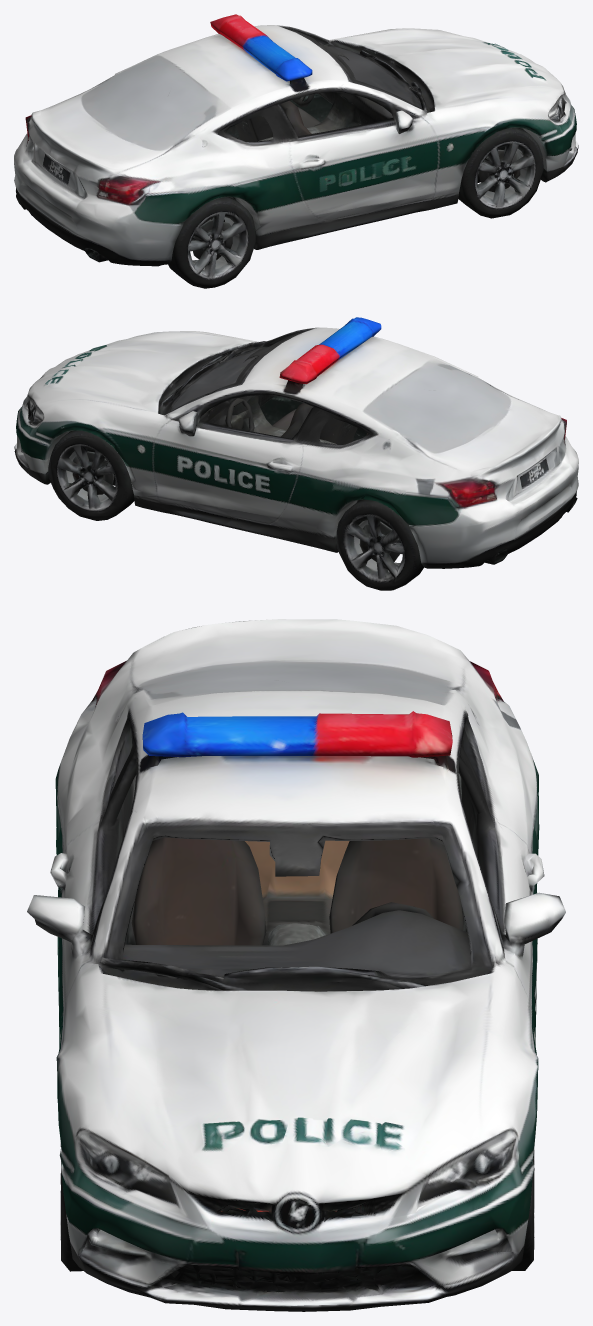
The model's file is dxb_ferrari.glb.
3 views of the same model, one above another, from view 1: azimuth 30°, elevation 25°; view 2: azimuth 150°, elevation 25°; view 3: azimuth 270°, elevation 25° (orthographic). The views are drawn at different scales.
Visible parts, largest first — view 1: tripo_node_0b499b43-7252-4865-ae2d-6b3176420d63; view 2: tripo_node_0b499b43-7252-4865-ae2d-6b3176420d63; view 3: tripo_node_0b499b43-7252-4865-ae2d-6b3176420d63.
Part boxes in pixels (x1,y1,x2,y2): tripo_node_0b499b43-7252-4865-ae2d-6b3176420d63: (14, 14, 578, 288); tripo_node_0b499b43-7252-4865-ae2d-6b3176420d63: (14, 317, 578, 590); tripo_node_0b499b43-7252-4865-ae2d-6b3176420d63: (27, 619, 565, 1311).
Bounding box in the file's own units: 1 × 0.3405 × 0.4564.
1 material, 1 textured.
